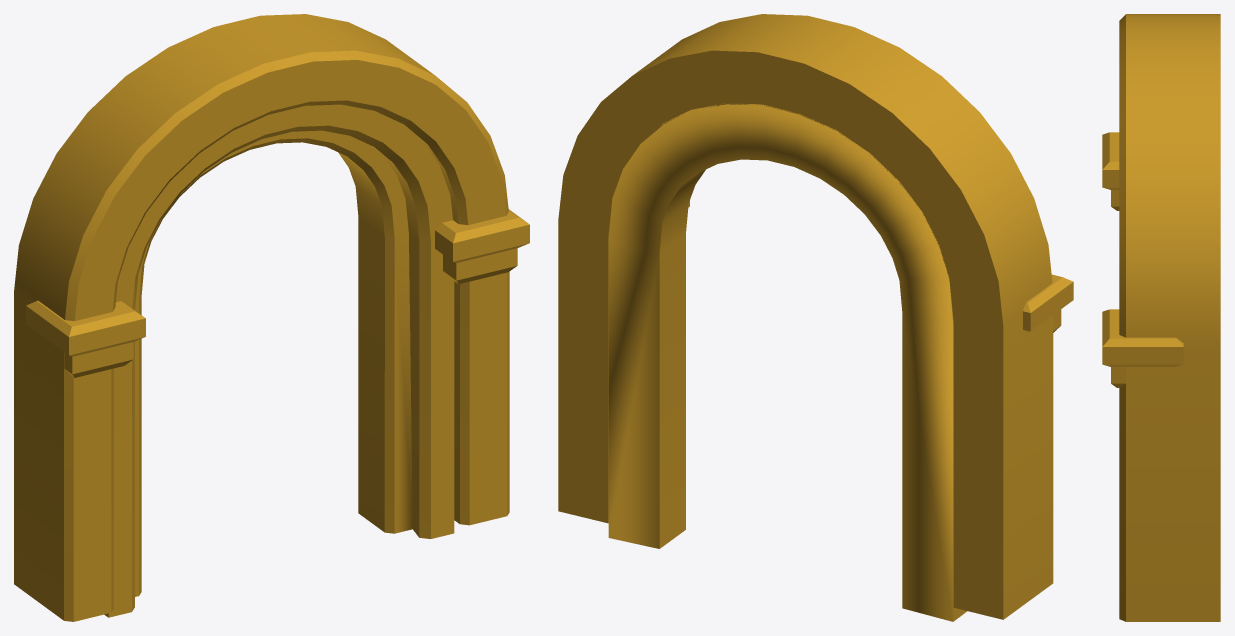
The model's file is luomadoor_01.fbx.
3 renders of one model, left to right at view 1: azimuth 30°, elevation 25°; view 2: azimuth 150°, elevation 25°; view 3: azimuth 270°, elevation 25°, orthographic. The views are drawn at different scales.
Parts seen in each view (by area): view 1: luomadoor_01; view 2: luomadoor_01; view 3: luomadoor_01.
Boxes of the visible parts, x1,y1,x2,y2 form: luomadoor_01: (14,14,529,621); luomadoor_01: (558,14,1073,621); luomadoor_01: (1102,14,1220,621).
Size of the model in its own units: 362 by 393 by 85.17.
